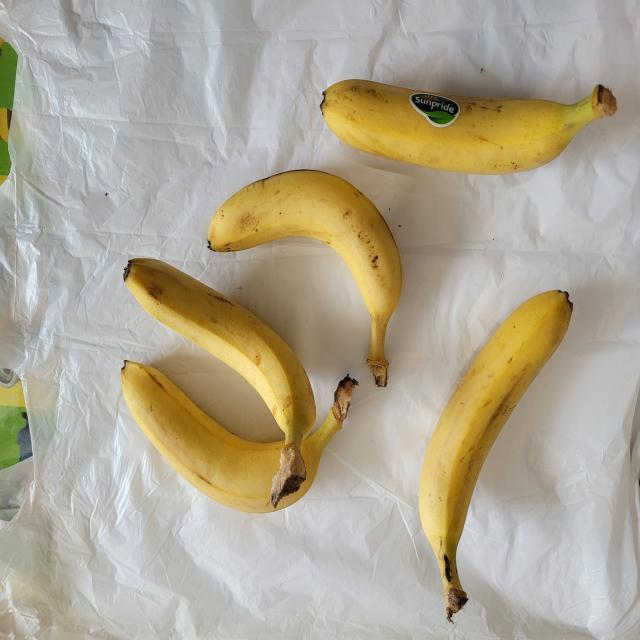Banana: (415, 268, 584, 625), (196, 150, 412, 390), (113, 245, 311, 488), (314, 54, 614, 194), (120, 342, 358, 498)
